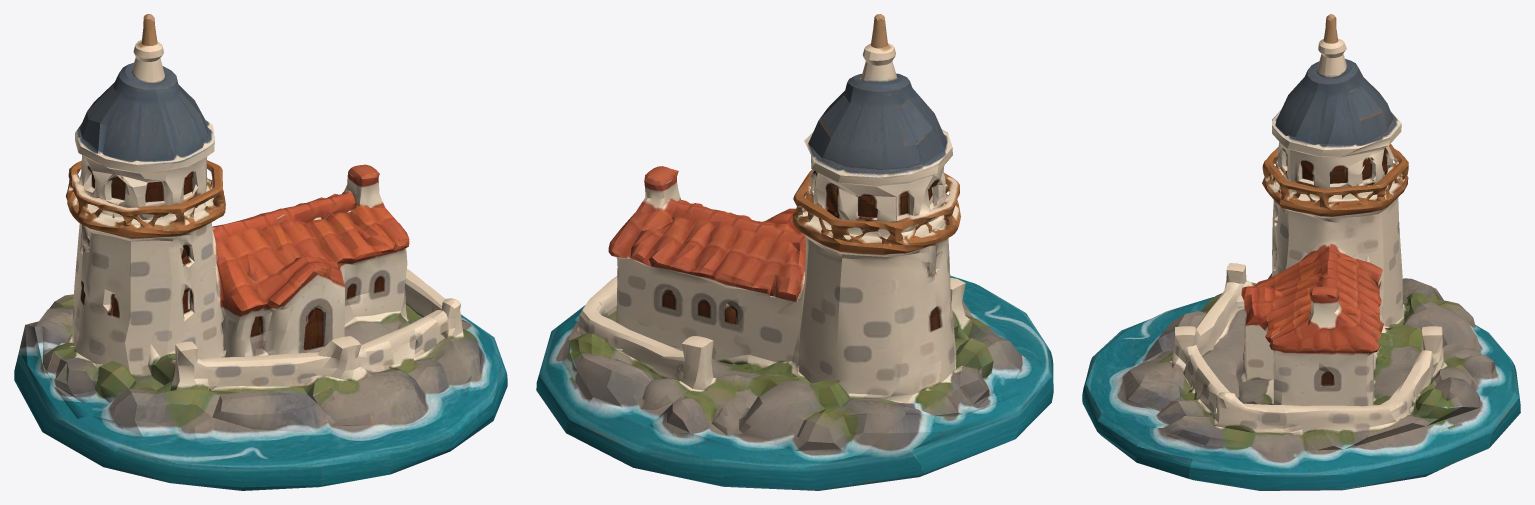
Rendered from kiz-kulesi.glb.
3 views of the same model, side by side, from view 1: azimuth 30°, elevation 25°; view 2: azimuth 150°, elevation 25°; view 3: azimuth 270°, elevation 25° (orthographic). The views are drawn at different scales.
Parts seen in each view (by area): view 1: Mesh0; view 2: Mesh0; view 3: Mesh0.
Boxes of the visible parts, left/top/right/bottom form: Mesh0: left=14, top=14, right=507, bottom=490; Mesh0: left=536, top=14, right=1053, bottom=490; Mesh0: left=1082, top=14, right=1520, bottom=490.
Bounding box in the file's own units: 1.88 × 1.64 × 1.89.
Materials: 1 (1 with a texture image).
